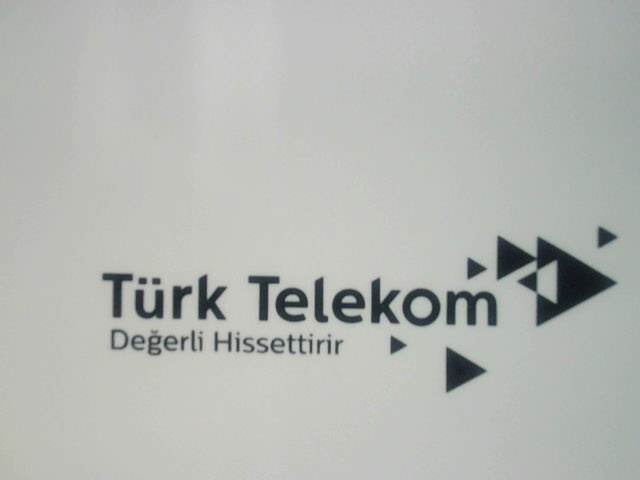AQ_TURKTelekom: (89, 222, 622, 389)
